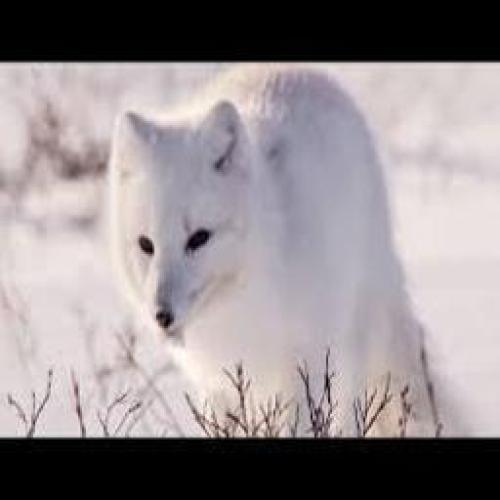arctic_fox-endangered: (109, 61, 474, 438)
